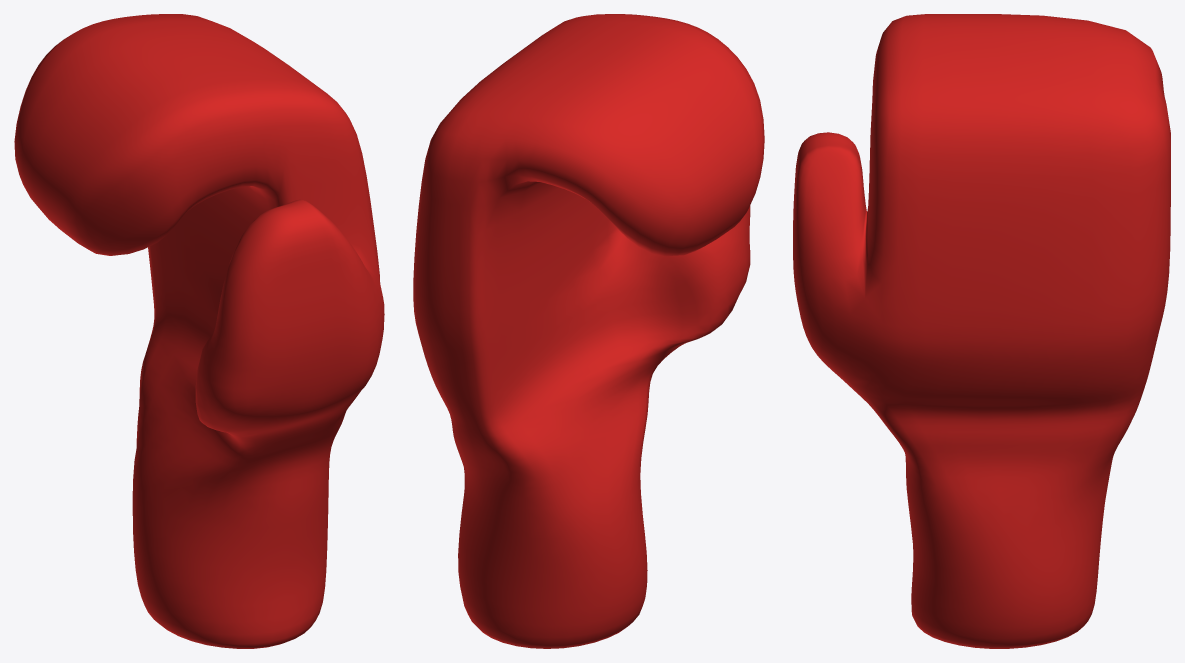
File: bxglvsp(right).fbx
3 views of the same model, side by side, from view 1: azimuth 30°, elevation 25°; view 2: azimuth 150°, elevation 25°; view 3: azimuth 270°, elevation 25° (orthographic). The views are drawn at different scales.
Visible parts, largest first — view 1: Cube.015; view 2: Cube.015; view 3: Cube.015.
Boxes of the visible parts, box(x1,y1,x2,y2) form: Cube.015: box(14, 14, 384, 648); Cube.015: box(413, 14, 764, 648); Cube.015: box(793, 14, 1170, 648).
Size of the model in its own units: 4.32 by 8.62 by 5.27.
